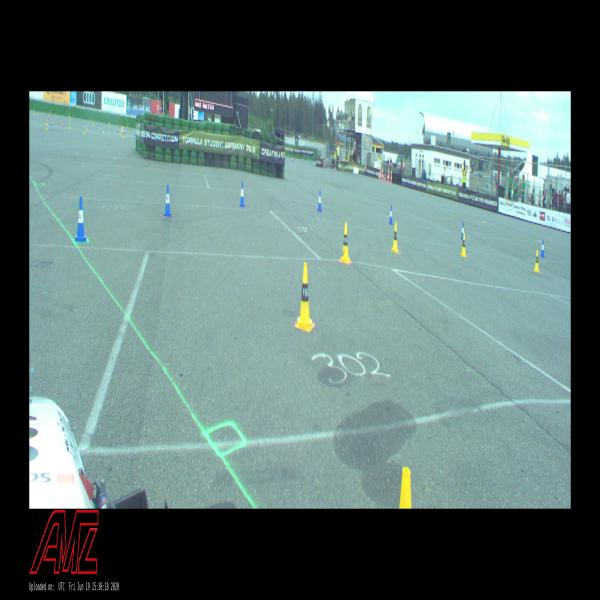blue_cone: (75, 197, 87, 241), (164, 184, 171, 216), (240, 181, 246, 207), (317, 190, 322, 212), (540, 240, 545, 258), (389, 206, 393, 224), (461, 222, 464, 240)
large_orange_cone: (387, 168, 390, 182), (384, 172, 386, 182), (391, 170, 392, 183), (382, 167, 383, 180), (379, 171, 380, 179)
yellow_cone: (295, 262, 314, 331), (399, 468, 412, 508), (340, 223, 351, 264), (392, 222, 399, 254), (533, 251, 540, 272), (460, 234, 466, 258)
